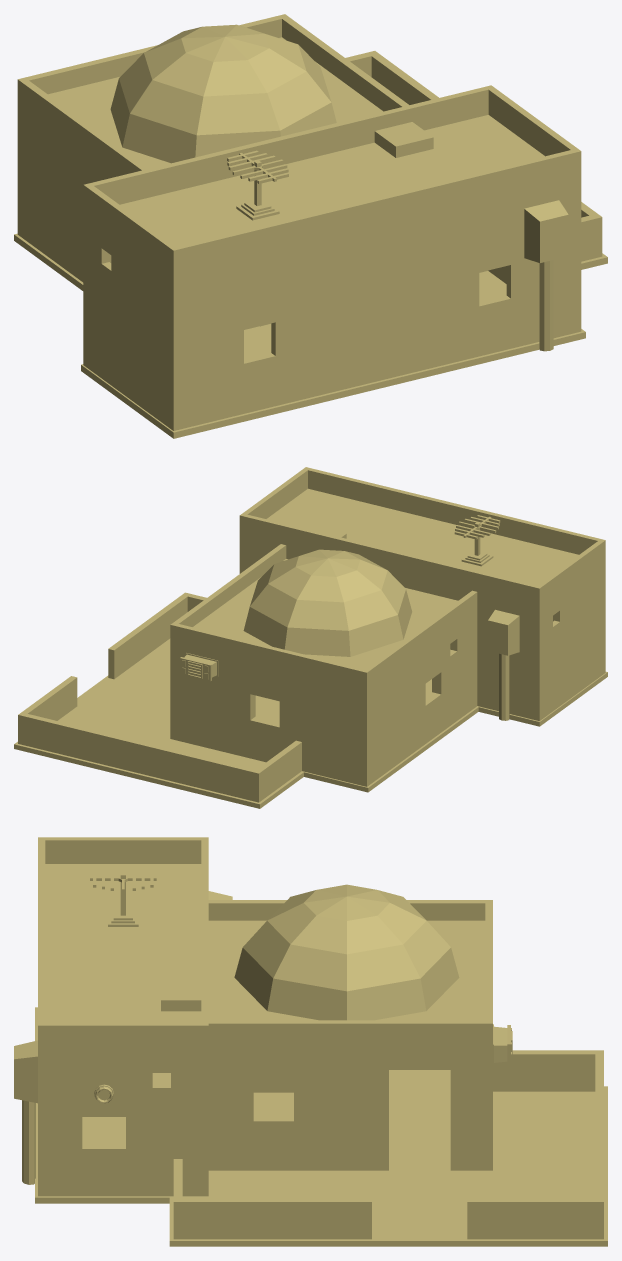
Rendered from DesertBuilding2.fbx.
The picture shows the model from 3 angles, top to bottom: view 1: azimuth 30°, elevation 25°; view 2: azimuth 150°, elevation 25°; view 3: azimuth 270°, elevation 25°; orthographic projection. The views are drawn at different scales.
Parts seen in each view (by area): view 1: Cube.002, Sphere.002, Cube.003; view 2: Cube.002, Cube.003, Sphere.002; view 3: Cube.002, Cube.003, Sphere.002.
Boxes of the visible parts, x1,y1,x2,y2 form: Cube.002: [17, 14, 581, 430]; Sphere.002: [110, 24, 336, 163]; Cube.003: [14, 51, 607, 438]; Cube.002: [170, 467, 605, 786]; Cube.003: [14, 592, 607, 808]; Sphere.002: [243, 549, 412, 656]; Cube.002: [14, 837, 512, 1196]; Cube.003: [35, 1007, 607, 1246]; Sphere.002: [234, 884, 459, 1020].
Size of the model in its own units: 1249 by 540 by 1343.
